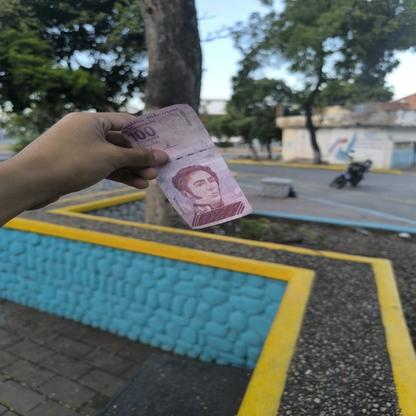one_hundred-front-vef: (118, 102, 253, 230)
